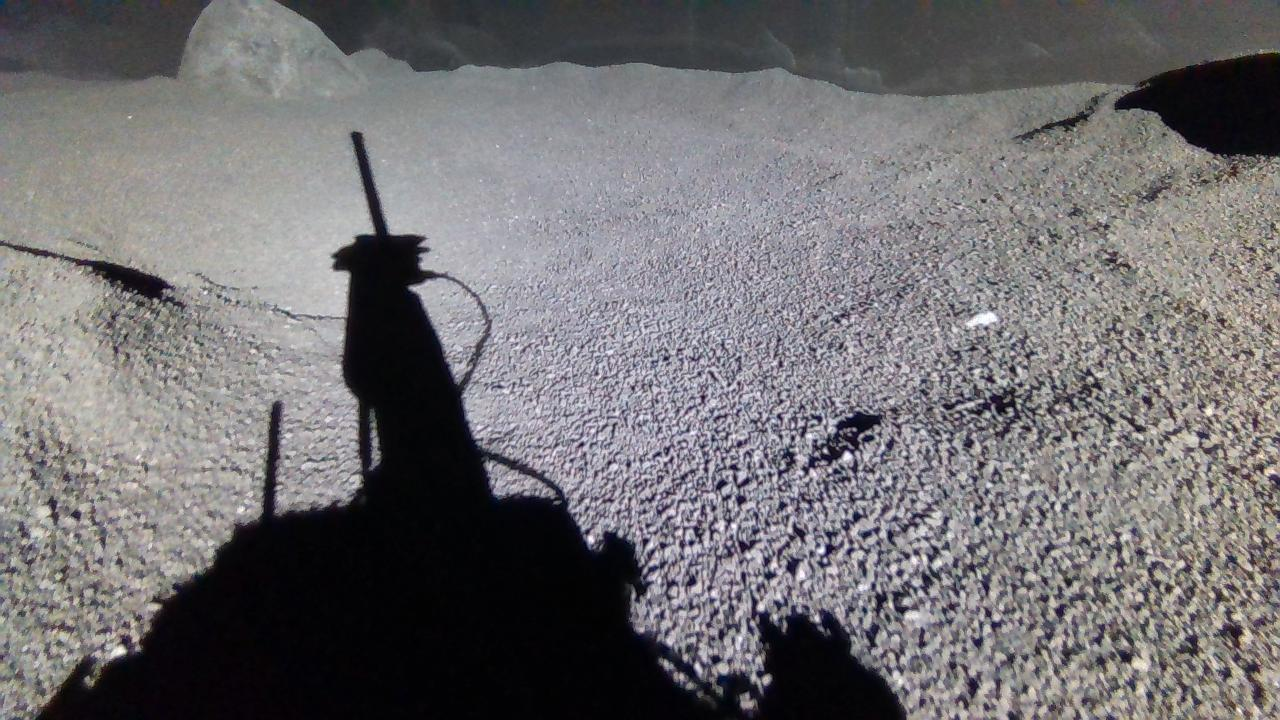rock: (177, 0, 356, 96)
